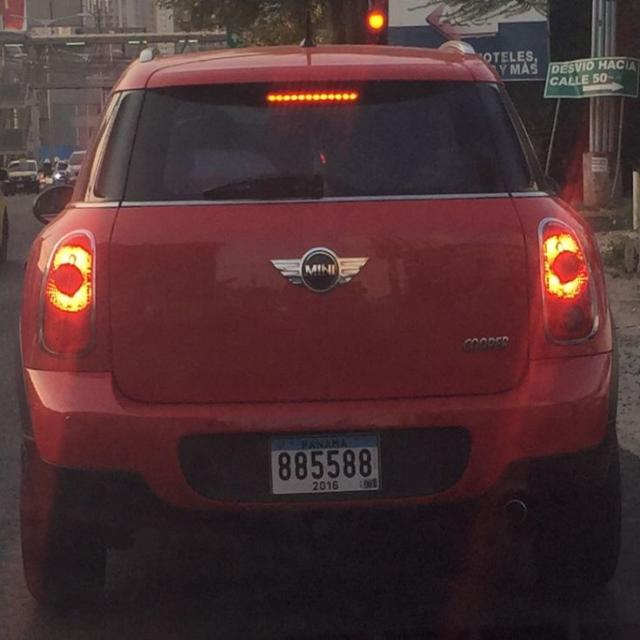Placas: (266, 426, 383, 505)
